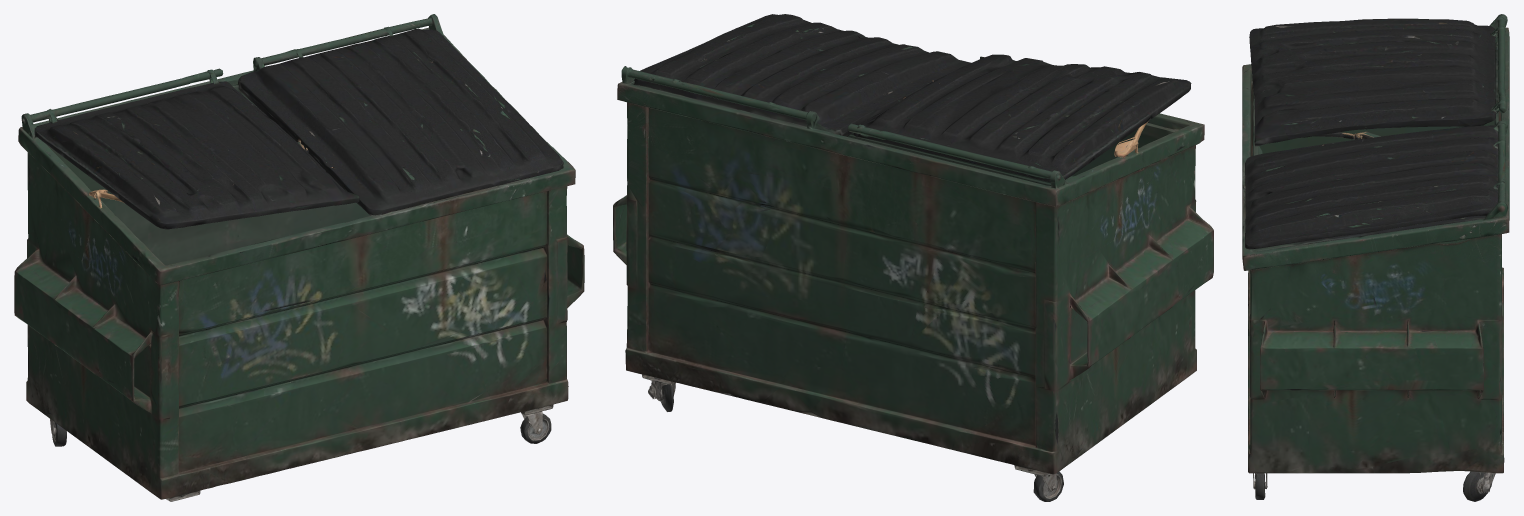
File: benne.glb
3 views of the same model, side by side, from view 1: azimuth 30°, elevation 25°; view 2: azimuth 150°, elevation 25°; view 3: azimuth 270°, elevation 25° (orthographic). The views are drawn at different scales.
Bounding box in the file's own units: 1.9 × 1.33 × 1.03.
Materials: 1 (1 with a texture image).
